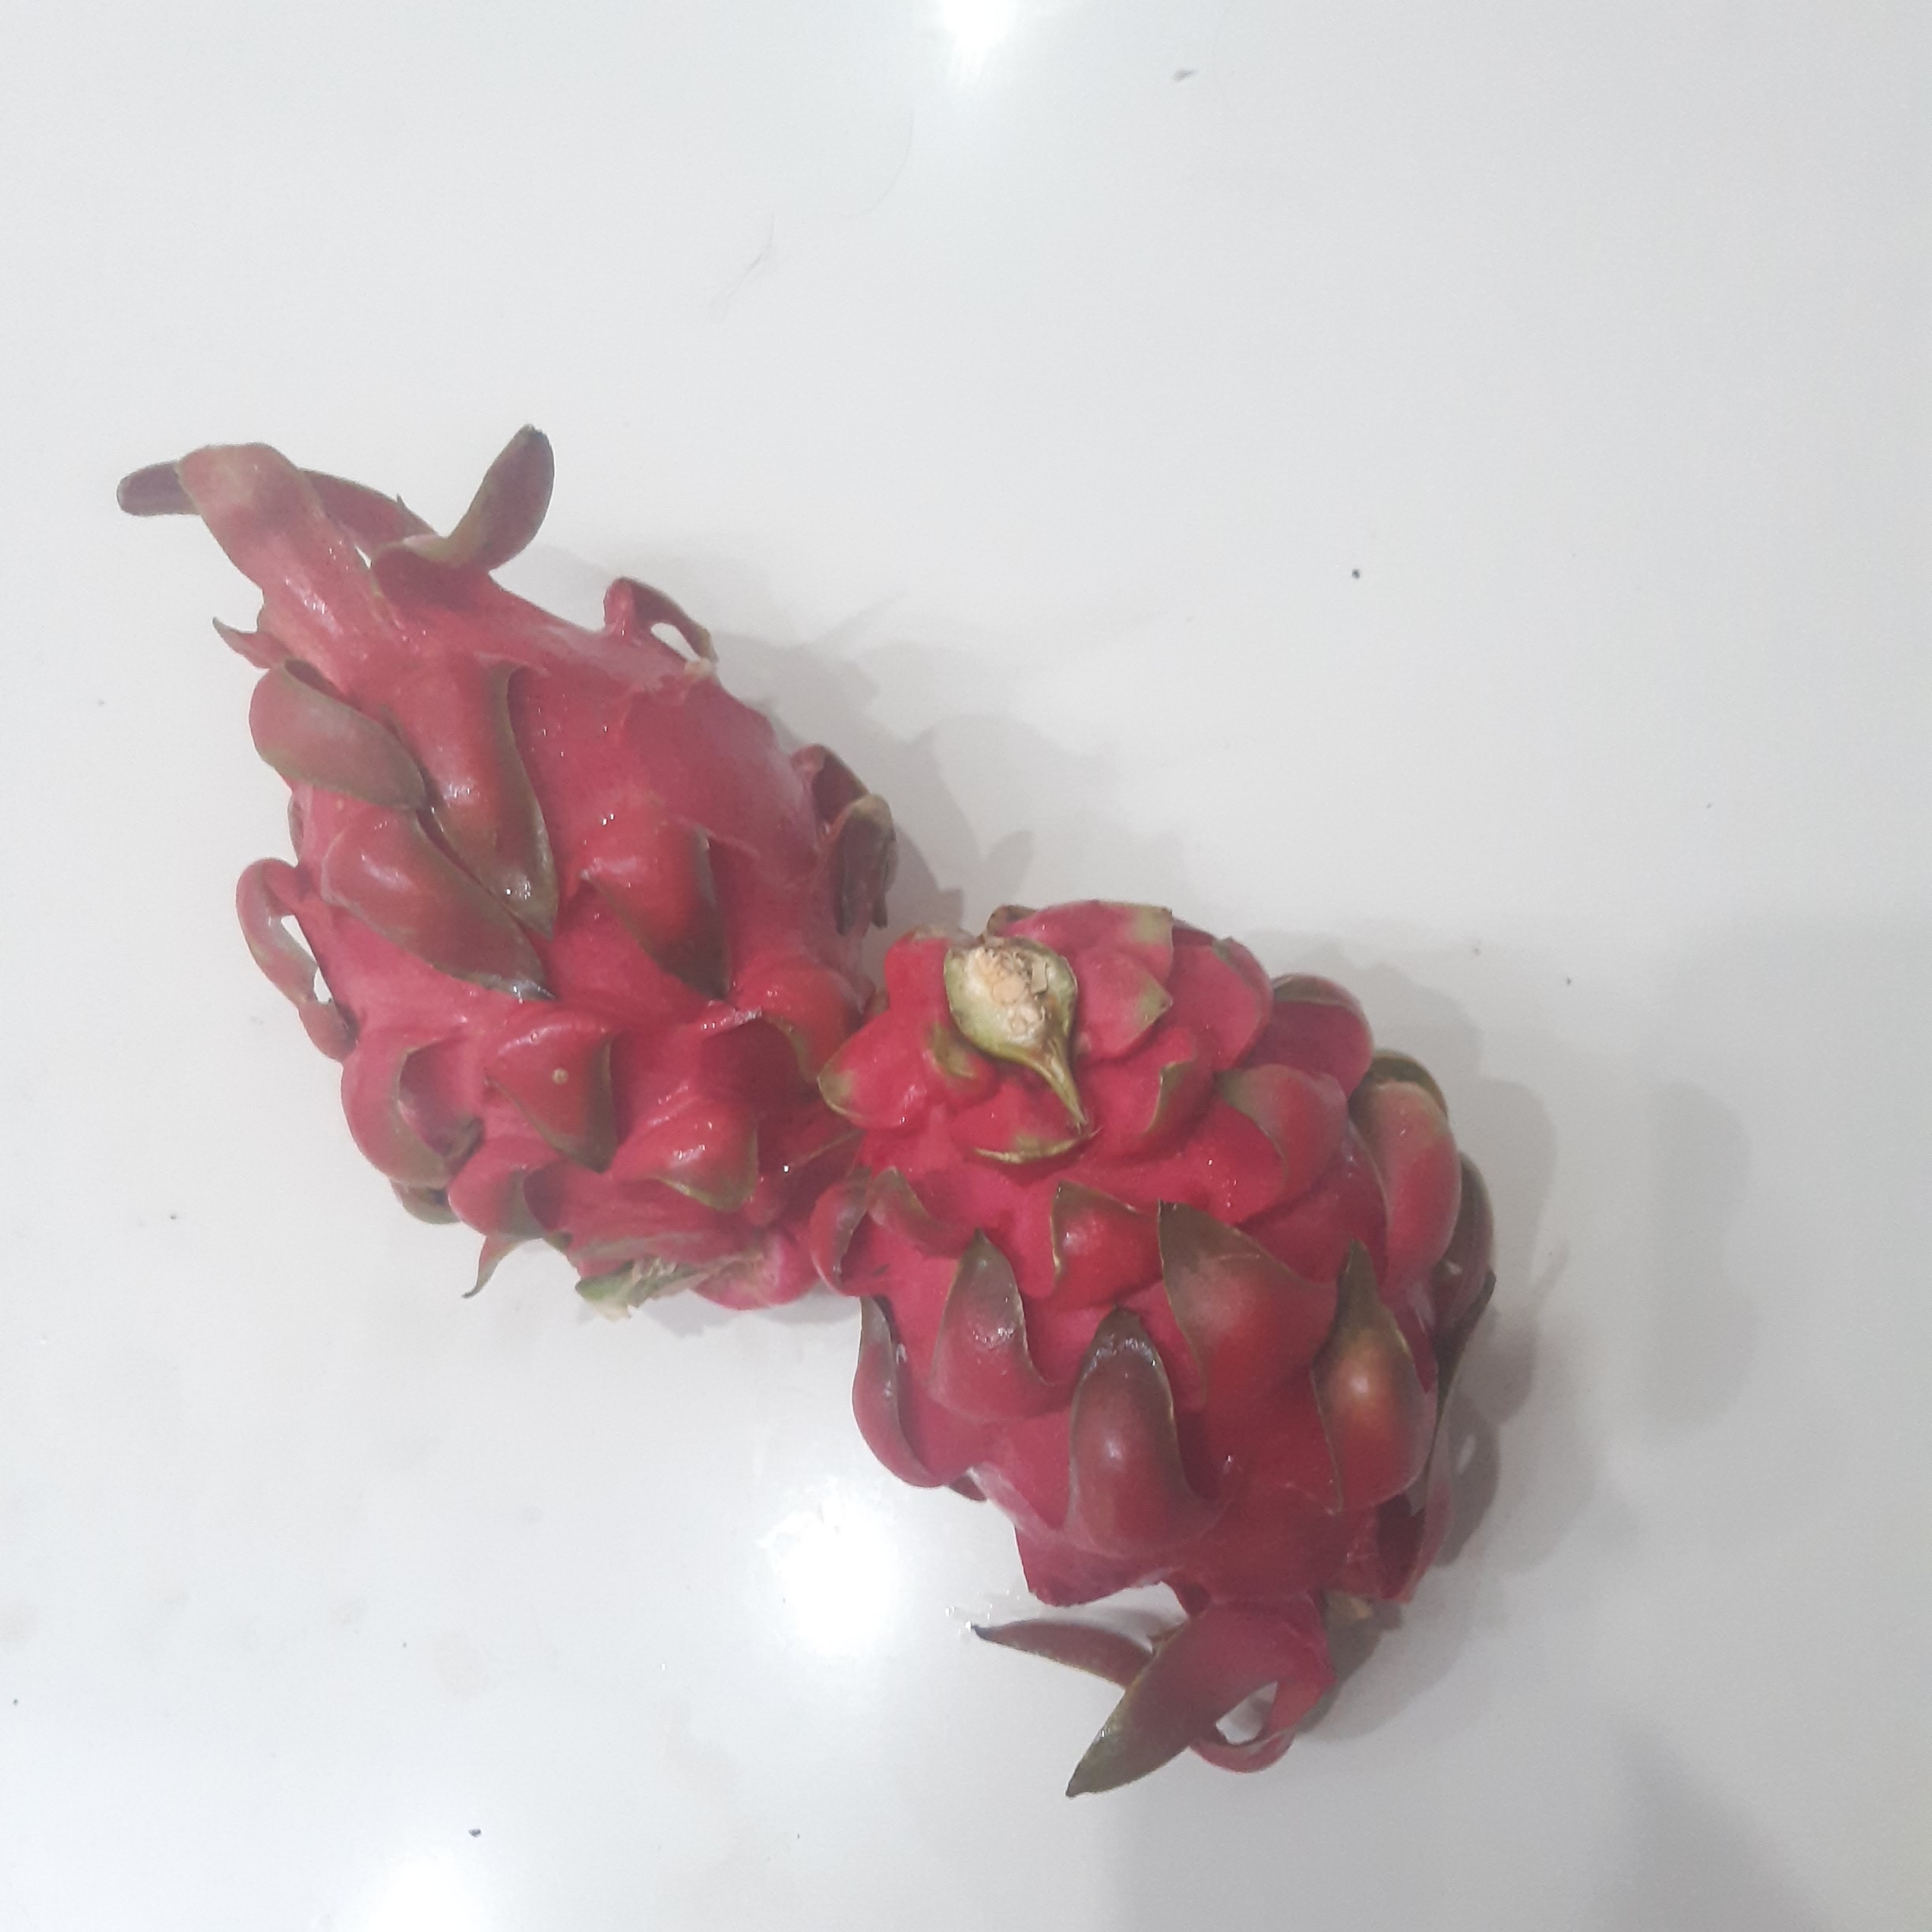Thanh long: (830, 918, 1461, 1633), (246, 570, 874, 1279)
